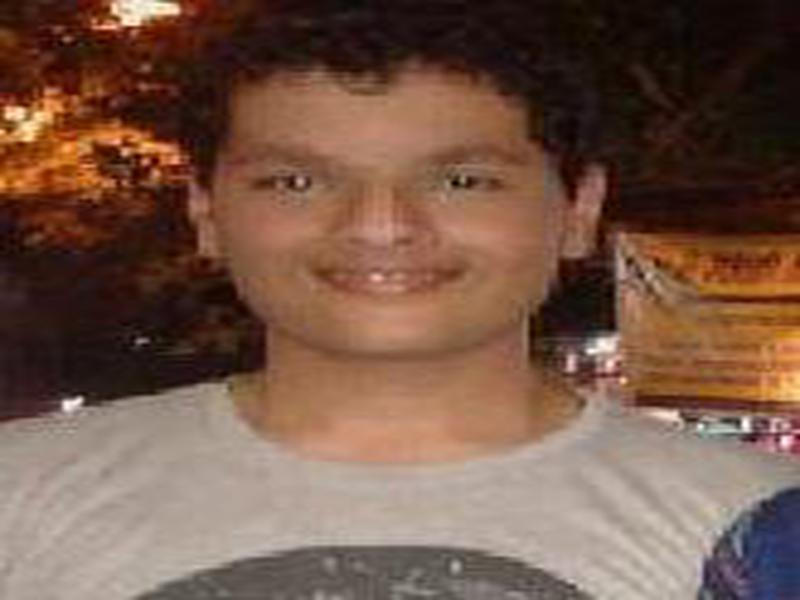without_mask: (206, 74, 553, 359)
